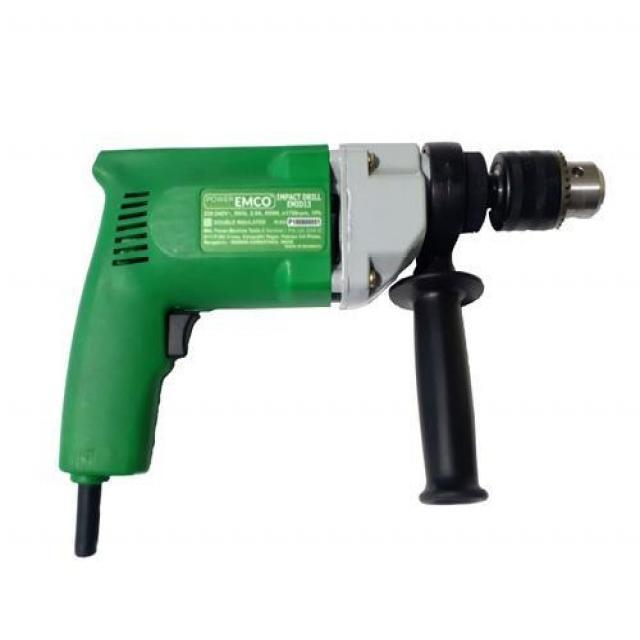drill: (58, 141, 606, 560)
